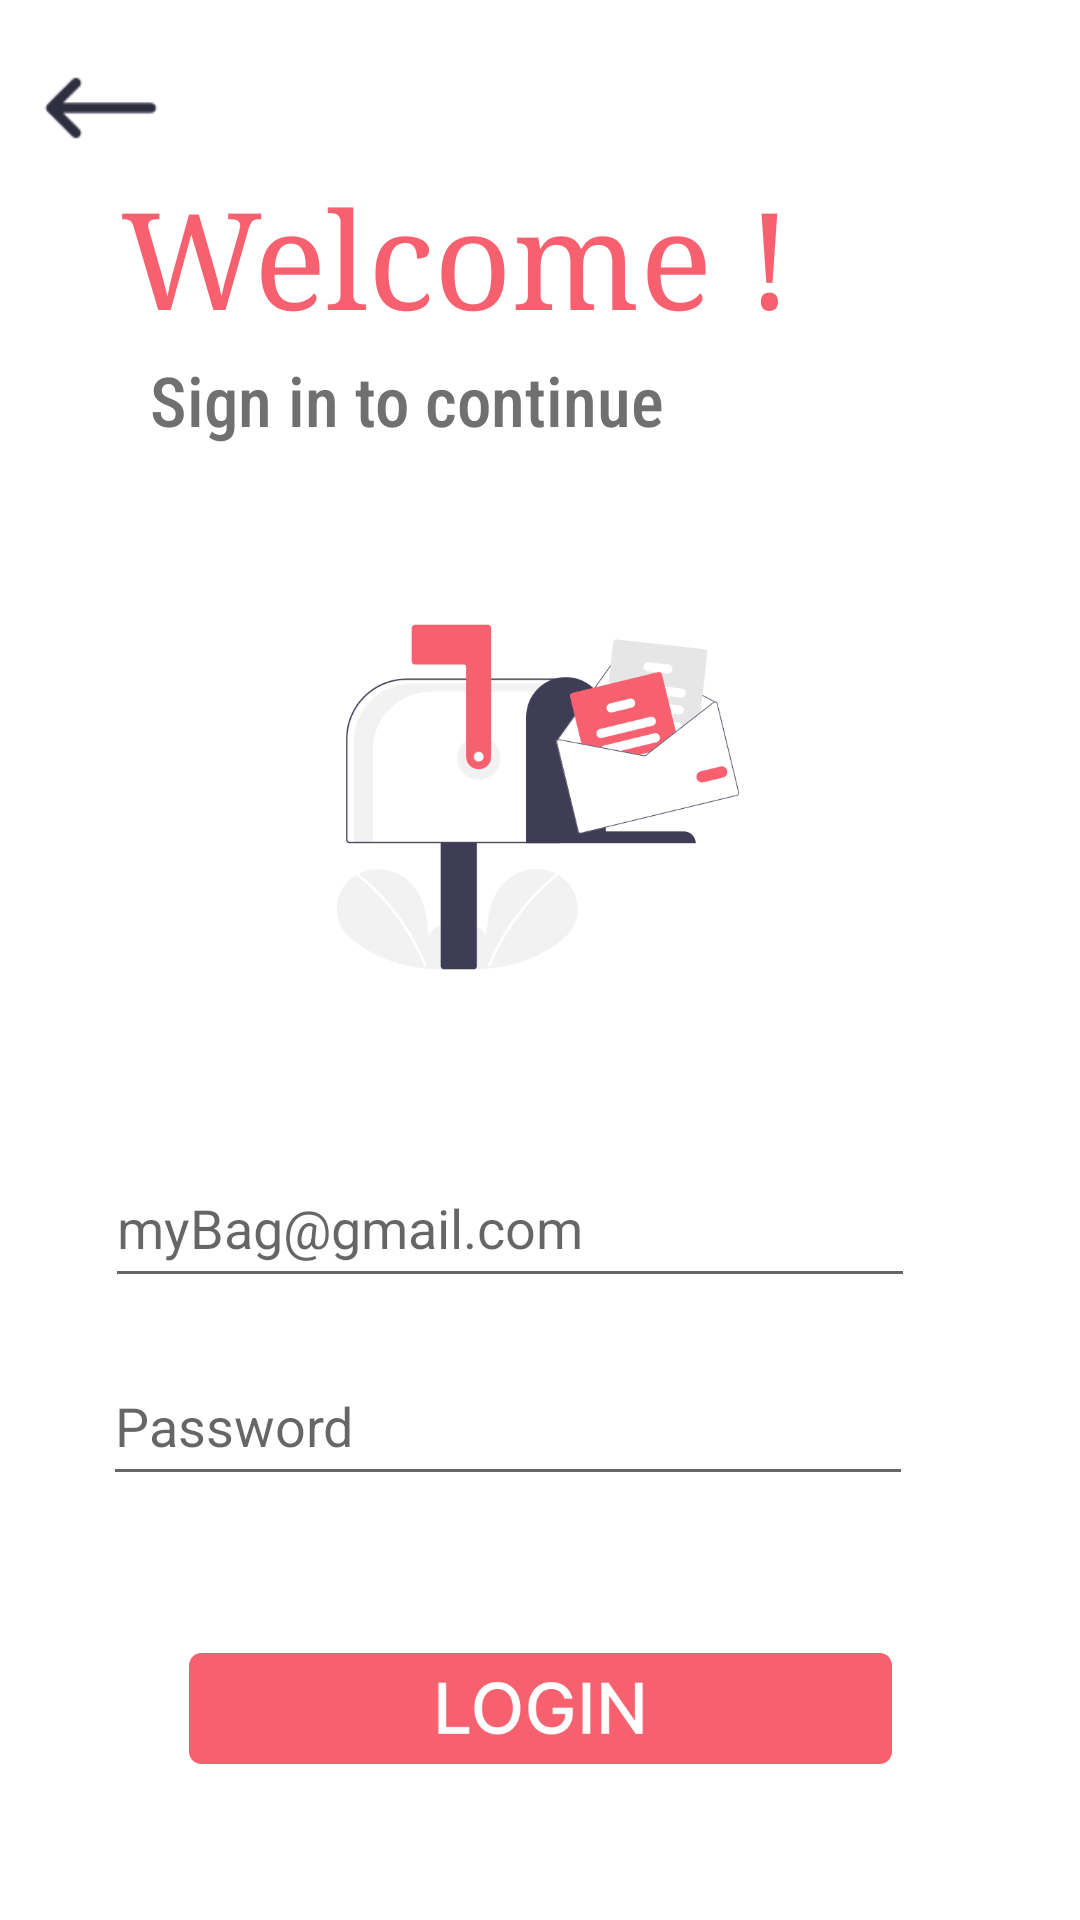

Screen size 1080px x 1920px. Icon name, then its center in pixels as [x,y]:
left arrow: [101,108]
